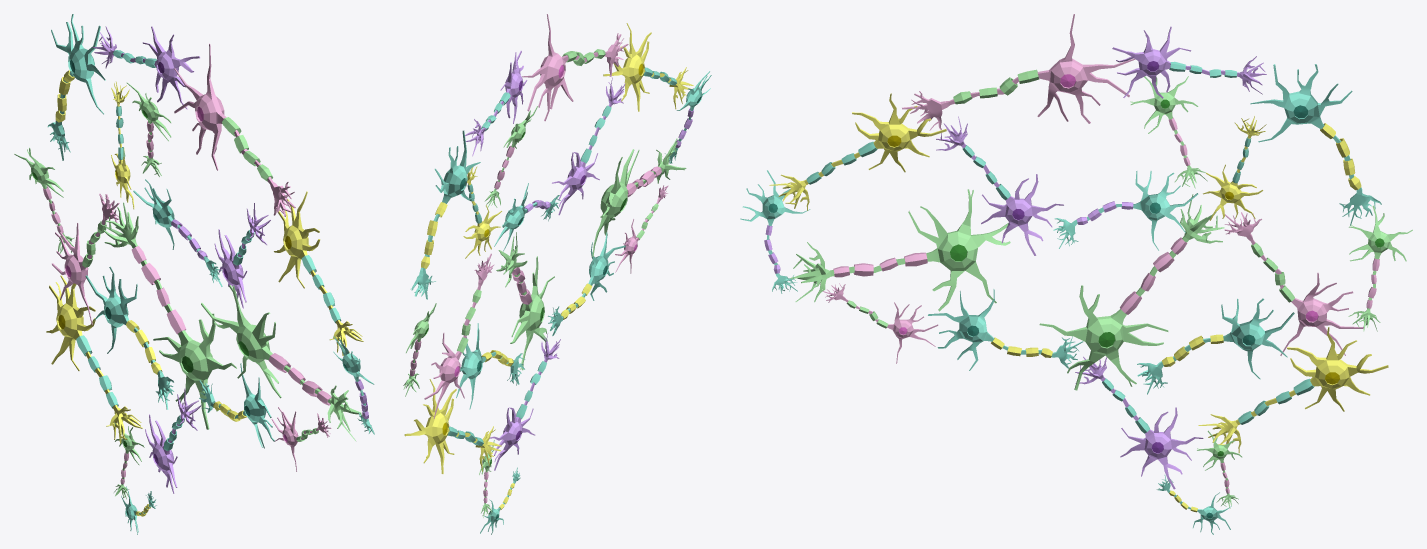
Rendered from neural_network.glb.
3 renders of one model, left to right at view 1: azimuth 30°, elevation 25°; view 2: azimuth 150°, elevation 25°; view 3: azimuth 270°, elevation 25°, orthographic. The views are drawn at different scales.
Visible parts, largest first — view 1: polySurface31, polySurface21, polySurface38, polySurface48, polySurface41, polySurface43, polySurface40, pasted__polySurface37, polySurface1, polySurface37, polySurface32, polySurface7 (+8 smaller); view 2: polySurface21, polySurface31, polySurface38, polySurface43, polySurface41, polySurface48, polySurface1, polySurface32, polySurface37, polySurface40, pasted__polySurface37, polySurface7 (+8 smaller); view 3: polySurface31, polySurface48, polySurface21, polySurface38, polySurface43, polySurface41, polySurface40, polySurface1, polySurface32, polySurface37, pasted__polySurface37, polySurface7 (+6 smaller).
Boxes of the visible parts, <box> form: polySurface31: <box>103,202,236,429</box>; polySurface21: <box>174,43,295,216</box>; polySurface38: <box>46,275,142,443</box>; polySurface48: <box>201,285,362,440</box>; polySurface41: <box>274,191,363,355</box>; polySurface43: <box>47,14,105,160</box>; polySurface40: <box>85,266,174,409</box>; pasted__polySurface37: <box>92,26,200,109</box>; polySurface1: <box>52,193,119,325</box>; polySurface37: <box>145,388,201,493</box>; polySurface32: <box>214,203,270,308</box>; polySurface7: <box>199,363,274,448</box>; polySurface21: <box>522,14,628,121</box>; polySurface31: <box>496,232,554,370</box>; polySurface38: <box>404,379,501,473</box>; polySurface43: <box>410,130,480,299</box>; polySurface41: <box>603,23,693,111</box>; polySurface48: <box>592,138,686,256</box>; polySurface1: <box>424,253,494,418</box>; polySurface32: <box>552,77,625,215</box>; polySurface37: <box>489,333,560,470</box>; polySurface40: <box>456,323,525,409</box>; pasted__polySurface37: <box>465,50,527,156</box>; polySurface7: <box>548,232,625,335</box>; polySurface31: <box>1039,194,1224,390</box>; polySurface48: <box>790,189,1010,311</box>; polySurface21: <box>902,14,1135,130</box>; polySurface38: <box>1198,327,1388,453</box>; polySurface43: <box>1250,64,1381,225</box>; polySurface41: <box>769,93,946,210</box>; polySurface40: <box>1137,298,1294,394</box>; polySurface1: <box>1224,212,1363,355</box>; polySurface32: <box>936,116,1063,255</box>; polySurface37: <box>1075,356,1203,489</box>; pasted__polySurface37: <box>1112,26,1266,98</box>; polySurface7: <box>928,289,1083,370</box>.
Bounding box in the file's own units: 0.3293 × 3.01 × 3.5.
